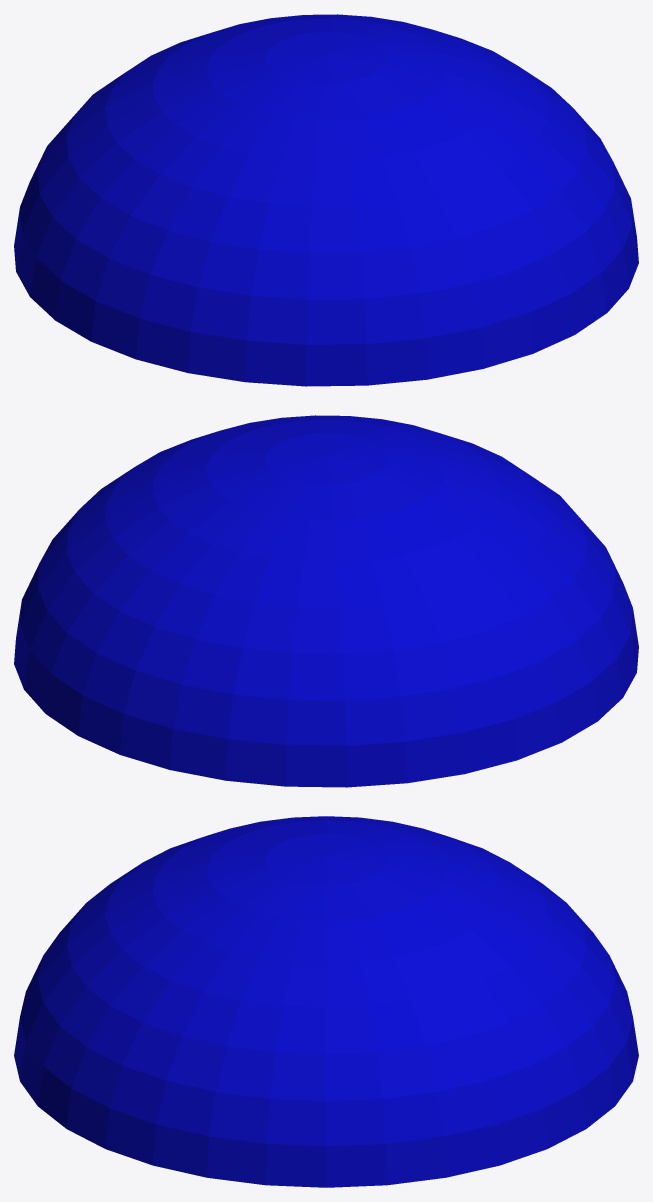
Rendered from L4_Dome.fbx.
3 views of the same model, one above another, from view 1: azimuth 30°, elevation 25°; view 2: azimuth 150°, elevation 25°; view 3: azimuth 270°, elevation 25° (orthographic).
Visible parts, largest first — view 1: Sphere; view 2: Sphere; view 3: Sphere.
Part boxes in pixels (bbox=[...]): Sphere: bbox=[14, 14, 638, 386]; Sphere: bbox=[14, 415, 638, 787]; Sphere: bbox=[14, 816, 638, 1187].
Bounding box in the file's own units: 85 × 30 × 85.
